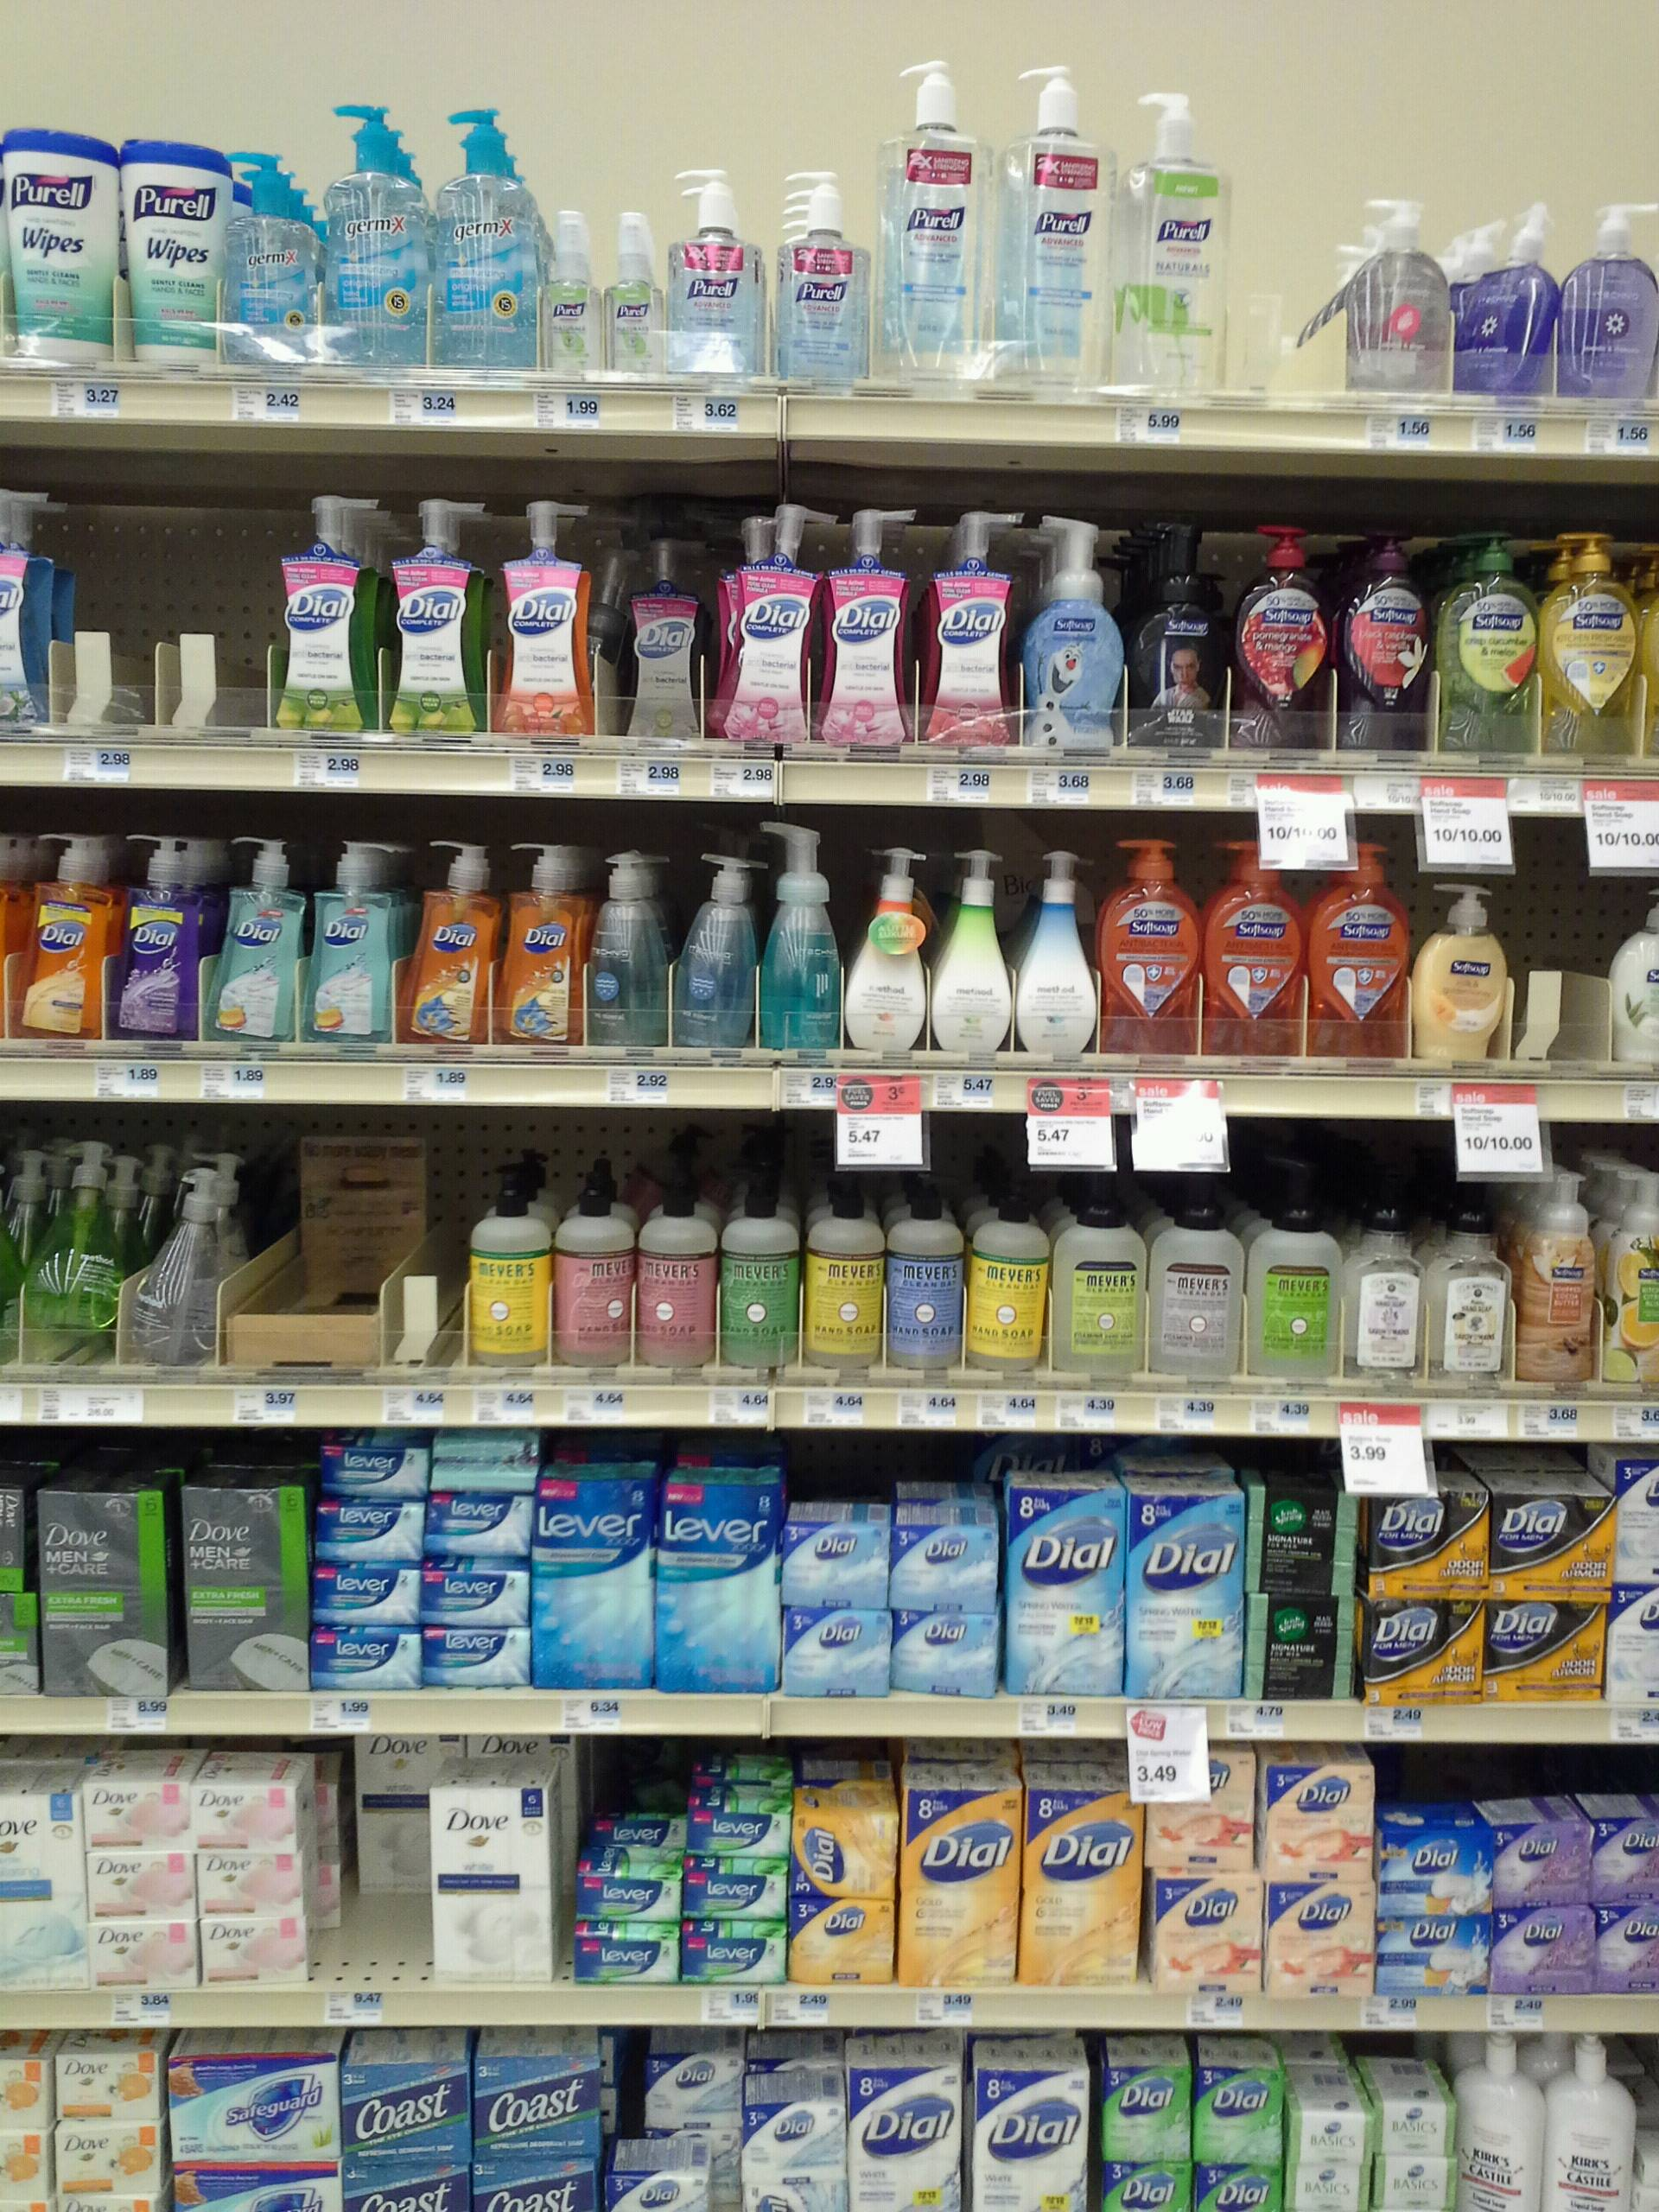Misplacement: (315, 1738, 432, 1986)
Out-of-stock: (1230, 105, 1340, 404)
